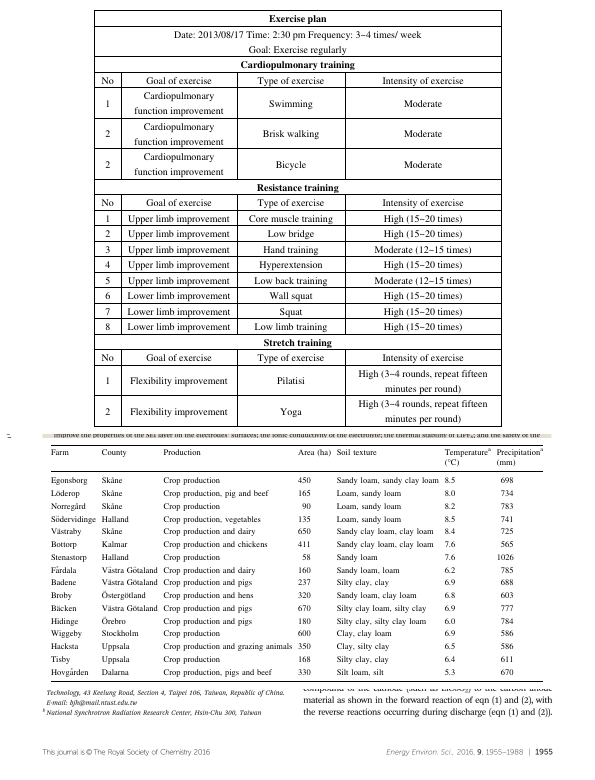bordered: (93, 8, 501, 426)
borderless: (50, 443, 543, 681)
cell: (172, 28, 422, 56), (357, 397, 488, 426), (357, 367, 488, 395), (133, 89, 224, 118), (133, 120, 224, 148), (133, 151, 224, 179), (239, 58, 355, 72), (126, 289, 231, 303), (126, 227, 230, 241), (126, 305, 231, 318), (126, 321, 231, 334), (126, 212, 230, 225), (126, 243, 230, 256), (126, 259, 230, 272), (126, 274, 230, 287), (162, 642, 293, 652), (373, 243, 472, 256), (373, 274, 472, 287), (129, 375, 228, 388), (129, 405, 228, 418), (381, 196, 464, 210), (382, 227, 463, 241), (382, 289, 463, 303), (247, 212, 333, 225), (162, 668, 272, 678), (255, 181, 339, 194), (381, 74, 464, 87), (381, 352, 464, 365), (443, 446, 492, 468), (495, 446, 544, 468), (162, 489, 269, 499), (162, 540, 268, 550), (382, 212, 463, 225), (382, 259, 463, 272), (382, 305, 463, 318), (382, 321, 463, 334), (335, 477, 440, 487), (162, 515, 261, 525), (335, 528, 434, 538), (335, 540, 434, 550), (253, 274, 328, 287), (253, 321, 328, 334), (256, 196, 325, 210), (162, 528, 256, 538), (162, 566, 256, 576), (145, 196, 212, 210), (162, 591, 254, 601), (335, 604, 427, 614), (335, 617, 427, 627), (262, 336, 332, 349), (162, 579, 253, 589), (162, 604, 253, 614), (162, 617, 253, 627), (256, 74, 325, 87), (256, 352, 325, 365), (145, 74, 212, 87), (145, 352, 212, 365), (258, 259, 323, 272), (267, 12, 327, 26), (261, 127, 320, 141), (335, 591, 417, 601), (262, 243, 319, 256), (266, 227, 315, 241), (335, 489, 402, 499), (335, 502, 402, 512), (335, 515, 402, 525), (335, 566, 400, 576), (268, 289, 313, 303), (267, 97, 313, 110), (162, 477, 221, 487), (162, 502, 221, 512), (162, 553, 221, 563), (162, 630, 221, 640), (162, 655, 221, 665), (100, 566, 158, 576), (100, 579, 158, 589), (100, 604, 158, 614), (402, 127, 443, 141), (335, 630, 392, 640), (335, 642, 390, 652), (335, 579, 389, 589), (335, 655, 389, 665), (402, 97, 443, 110), (402, 158, 443, 171), (100, 590, 146, 601), (335, 668, 384, 678), (50, 515, 97, 525), (335, 553, 378, 563), (274, 158, 307, 171), (335, 448, 377, 458), (275, 375, 305, 388), (162, 448, 201, 458), (100, 630, 139, 640), (50, 668, 89, 678), (50, 477, 88, 487), (50, 553, 87, 563), (50, 502, 86, 512), (297, 448, 332, 458), (50, 630, 83, 640), (278, 305, 303, 318), (50, 528, 82, 538), (278, 405, 302, 418), (100, 615, 126, 627), (50, 489, 80, 499), (100, 642, 130, 652), (100, 655, 130, 665), (100, 515, 129, 525), (100, 553, 129, 563), (50, 617, 79, 627), (50, 642, 79, 652), (100, 668, 129, 678), (100, 540, 128, 550), (100, 448, 127, 458), (50, 540, 77, 550), (50, 566, 77, 576), (50, 579, 77, 589), (50, 604, 77, 614), (100, 476, 123, 487), (100, 527, 123, 538), (100, 489, 123, 499), (100, 502, 123, 512), (50, 591, 73, 601), (50, 655, 71, 665), (49, 448, 69, 458), (100, 196, 114, 210), (495, 553, 514, 563), (100, 74, 114, 87), (100, 352, 114, 365), (499, 477, 514, 487), (499, 489, 514, 499), (499, 502, 514, 512), (499, 515, 514, 525), (499, 528, 514, 538), (499, 540, 514, 550), (499, 566, 514, 576), (499, 579, 514, 589), (499, 591, 514, 601), (499, 604, 514, 614), (499, 617, 514, 627), (499, 630, 514, 640), (499, 642, 514, 652), (499, 655, 514, 665), (499, 668, 514, 678), (297, 477, 311, 487), (297, 489, 311, 499), (297, 515, 311, 525), (297, 528, 311, 538), (297, 540, 311, 550), (297, 566, 311, 576), (297, 579, 311, 589), (297, 591, 311, 601), (297, 604, 311, 614), (297, 617, 311, 627), (297, 630, 311, 640), (297, 642, 311, 652), (297, 655, 311, 665), (297, 668, 311, 678), (443, 477, 456, 487), (443, 489, 456, 499), (443, 502, 456, 512), (443, 515, 456, 525), (443, 528, 456, 538), (443, 540, 456, 550), (443, 553, 456, 563), (443, 566, 456, 576), (443, 579, 456, 589), (443, 591, 456, 601), (443, 604, 456, 614), (443, 617, 456, 627), (443, 630, 456, 640), (443, 642, 456, 652), (443, 655, 456, 665), (443, 668, 456, 678), (301, 502, 311, 512), (301, 553, 311, 563), (104, 127, 111, 141), (104, 227, 111, 241), (104, 289, 111, 303), (104, 97, 111, 110), (104, 158, 111, 171), (104, 212, 111, 225), (104, 243, 111, 256), (104, 259, 111, 272), (104, 274, 111, 287), (104, 305, 111, 318), (104, 321, 111, 334), (104, 375, 111, 388), (104, 405, 111, 418)
